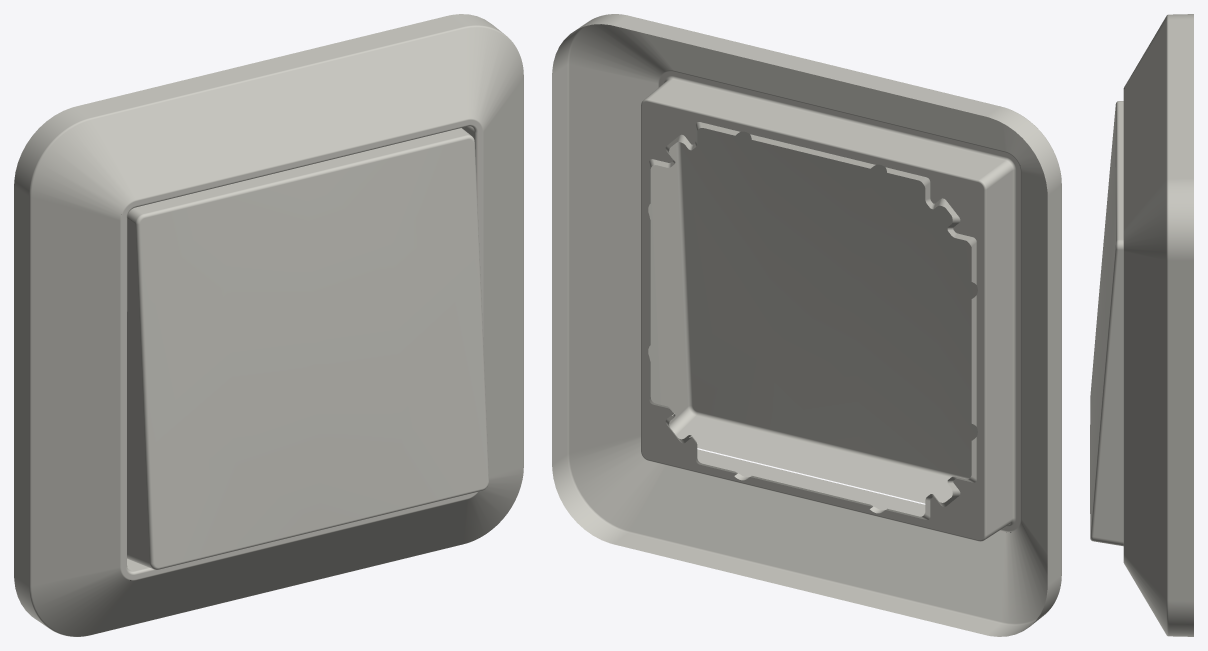
The picture shows the model from 3 angles, left to right: view 1: azimuth 30°, elevation 25°; view 2: azimuth 150°, elevation 25°; view 3: azimuth 270°, elevation 25°; orthographic projection. The views are drawn at different scales.
Parts seen in each view (by area): view 1: 389119_Baked, 432119_Baked; view 2: 389119_Baked, 432119_Baked; view 3: 389119_Baked, 432119_Baked.
Part boxes in pixels (x1,y1,x2,y2): 389119_Baked: (14, 14, 523, 636); 432119_Baked: (127, 128, 488, 569); 389119_Baked: (552, 14, 1061, 636); 432119_Baked: (650, 128, 977, 503); 389119_Baked: (1123, 14, 1193, 636); 432119_Baked: (1090, 101, 1123, 546).
Bounding box in the file's own units: 0.0805 × 0.0805 × 0.0167.
Materials: 2 (2 with a texture image).
